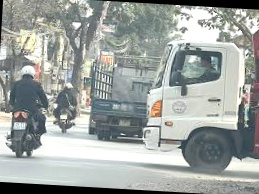Bien-so: (19, 121, 30, 131), (63, 114, 72, 120)
